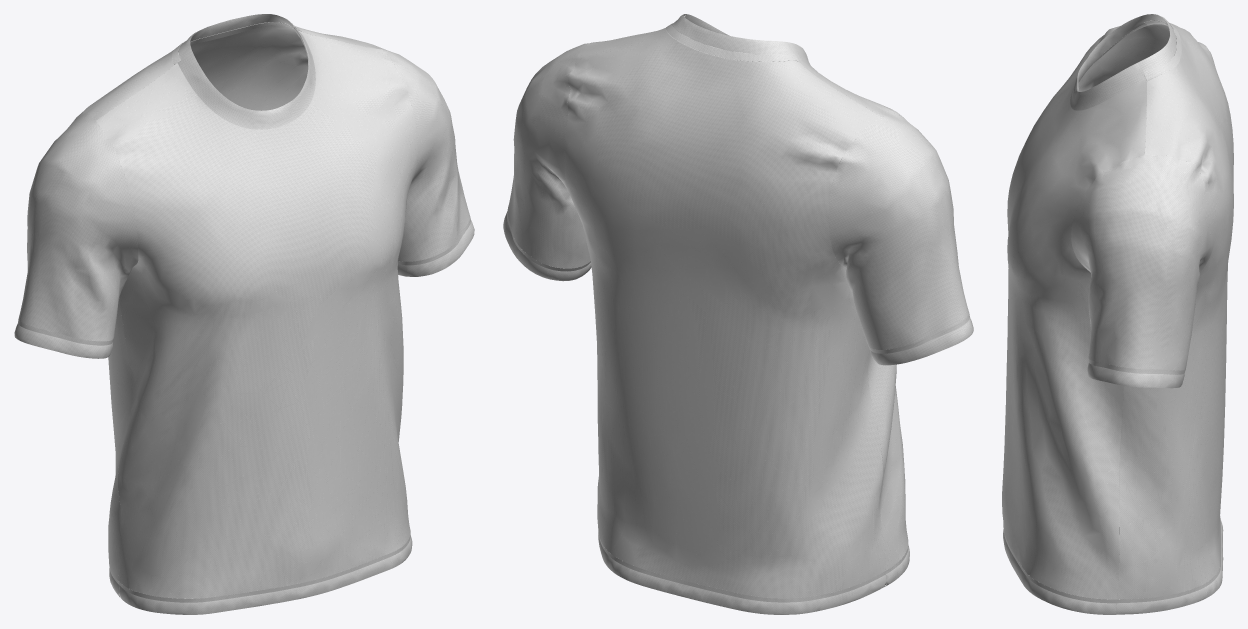
Rendered from back.glb.
3 views of the same model, side by side, from view 1: azimuth 30°, elevation 25°; view 2: azimuth 150°, elevation 25°; view 3: azimuth 270°, elevation 25° (orthographic). The views are drawn at different scales.
Visible parts, largest first — view 1: Pattern2D_484664, Pattern2D_484671, Pattern2D_484662, Pattern2D_484672, Pattern2D_484669, Pattern2D_484661, Pattern2D_484666, Pattern2D_484659, Pattern2D_484673; view 2: Pattern2D_484669, Pattern2D_484671, Pattern2D_484662, Pattern2D_484664, Pattern2D_484670, Pattern2D_484666, Pattern2D_484659, Pattern2D_484673, Pattern2D_484665; view 3: Pattern2D_484664, Pattern2D_484669, Pattern2D_484662, Pattern2D_484666, Pattern2D_484668, Pattern2D_484661, Pattern2D_484670, Pattern2D_484673, Pattern2D_484665.
Part boxes in pixels (x1,y1,x2,y2): Pattern2D_484664: [96, 31, 417, 598]; Pattern2D_484671: [18, 112, 138, 341]; Pattern2D_484662: [368, 43, 470, 261]; Pattern2D_484672: [190, 24, 308, 110]; Pattern2D_484669: [76, 26, 380, 580]; Pattern2D_484661: [118, 535, 412, 614]; Pattern2D_484666: [177, 14, 315, 129]; Pattern2D_484659: [14, 319, 113, 358]; Pattern2D_484673: [397, 217, 474, 276]; Pattern2D_484669: [564, 28, 885, 598]; Pattern2D_484671: [828, 115, 969, 349]; Pattern2D_484662: [507, 42, 594, 268]; Pattern2D_484664: [589, 37, 908, 570]; Pattern2D_484670: [598, 532, 886, 614]; Pattern2D_484666: [672, 14, 810, 65]; Pattern2D_484659: [868, 313, 973, 365]; Pattern2D_484673: [503, 211, 591, 281]; Pattern2D_484665: [665, 23, 798, 61]; Pattern2D_484664: [1002, 27, 1146, 599]; Pattern2D_484669: [1117, 23, 1233, 599]; Pattern2D_484662: [1071, 155, 1216, 370]; Pattern2D_484666: [1070, 14, 1176, 110]; Pattern2D_484668: [1078, 24, 1169, 91]; Pattern2D_484661: [1003, 529, 1116, 614]; Pattern2D_484670: [1115, 520, 1223, 614]; Pattern2D_484673: [1087, 359, 1185, 388]; Pattern2D_484665: [1144, 22, 1181, 80].
Bounding box in the file's own units: 0.5428 × 0.6113 × 0.2448.
1 material, 1 textured.
